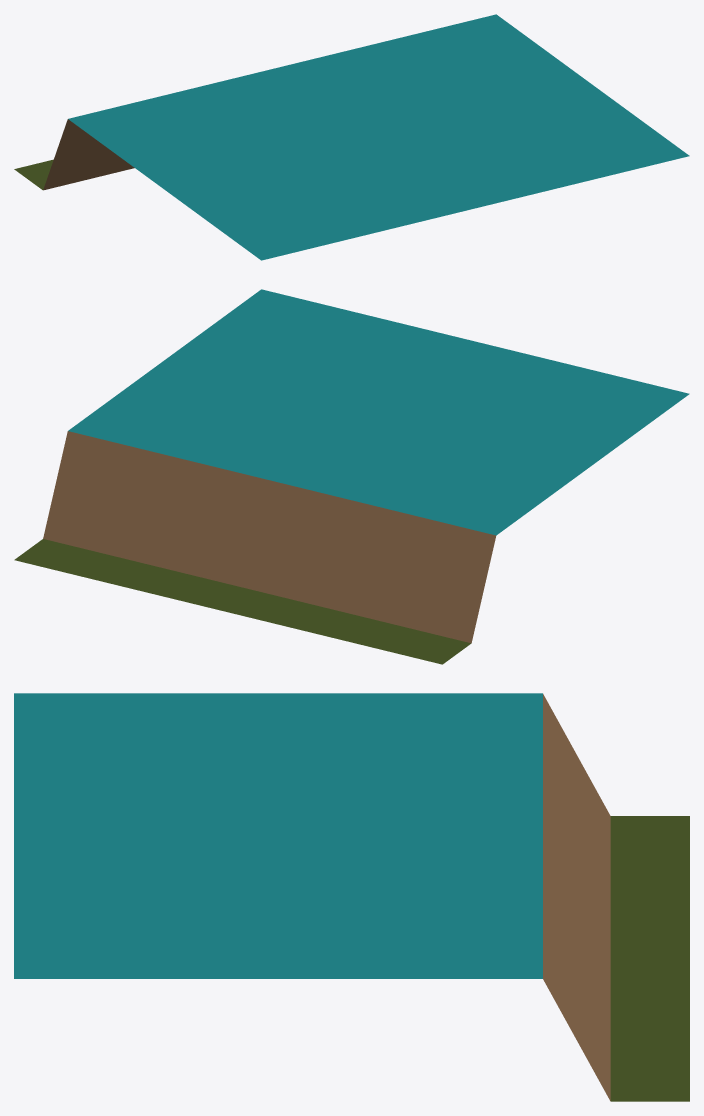
The model's file is TB_Env_Mountain_F.FBX.
3 renders of one model, top to bottom at view 1: azimuth 30°, elevation 25°; view 2: azimuth 150°, elevation 25°; view 3: azimuth 270°, elevation 25°, orthographic. The views are drawn at different scales.
Visible parts, largest first — view 1: TB_Env_Mountain_F; view 2: TB_Env_Mountain_F; view 3: TB_Env_Mountain_F.
Part boxes in pixels (x1,y1,x2,y2): TB_Env_Mountain_F: (14, 14, 689, 260); TB_Env_Mountain_F: (14, 289, 689, 664); TB_Env_Mountain_F: (14, 693, 689, 1101).
Bounding box in the file's own units: 10 × 2 × 10.
1 material, 1 textured.
